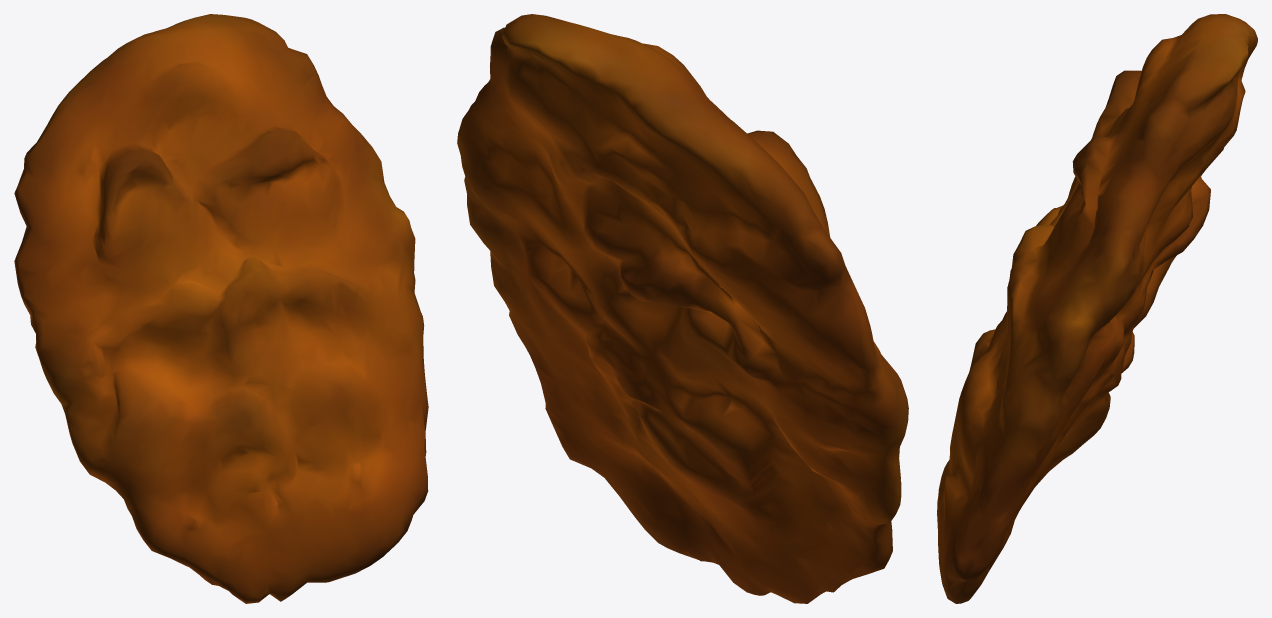
Rendered from Lava2_lod2.fbx.
3 renders of one model, left to right at view 1: azimuth 30°, elevation 25°; view 2: azimuth 150°, elevation 25°; view 3: azimuth 270°, elevation 25°, orthographic. The views are drawn at different scales.
Visible parts, largest first — view 1: Layer_3; view 2: Layer_3; view 3: Layer_3.
Part boxes in pixels (x1,y1,x2,y2): Layer_3: (14, 14, 428, 603); Layer_3: (457, 14, 908, 603); Layer_3: (937, 14, 1257, 603).
Size of the model in its own units: 3.6 by 2.55 by 4.88.
